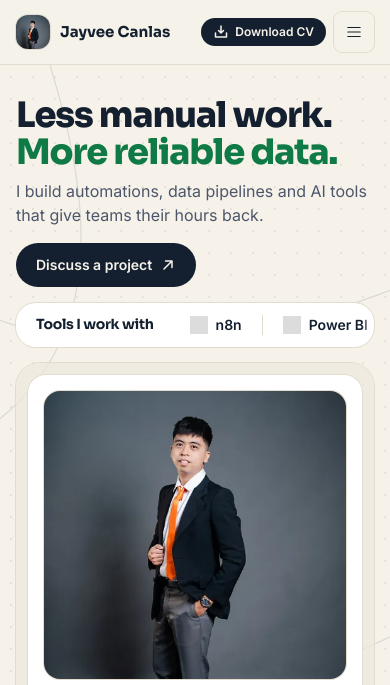
it: app shell › mobile menu opens, and closes on link click
Click the button named "menu".
click(354, 32)  # box x1=334 y1=12 x2=374 y2=52
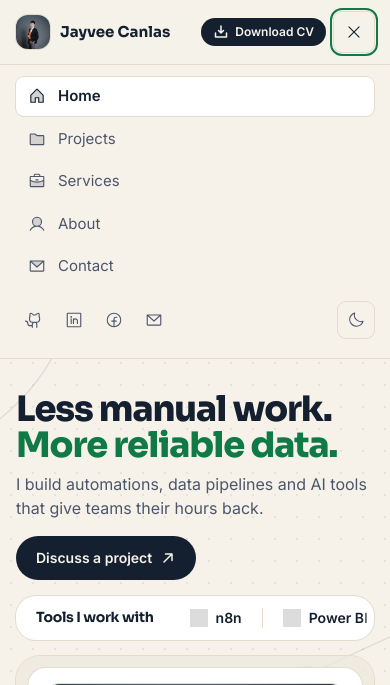
Now the button named "menu" is expanded, box x1=334 y1=12 x2=374 y2=52
Click the link "Projects".
click(72, 138)  # box x1=28 y1=128 x2=116 y2=148
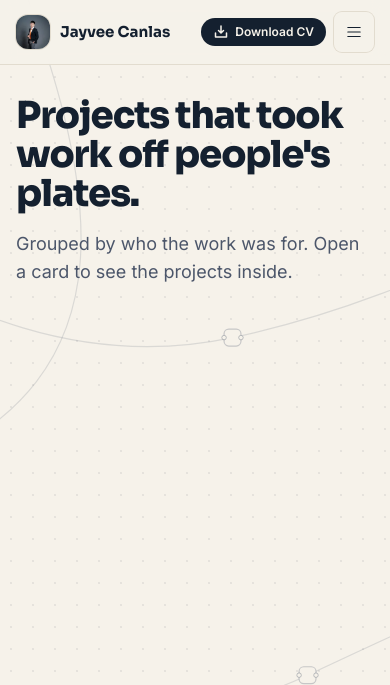
Now the dialog is gone
